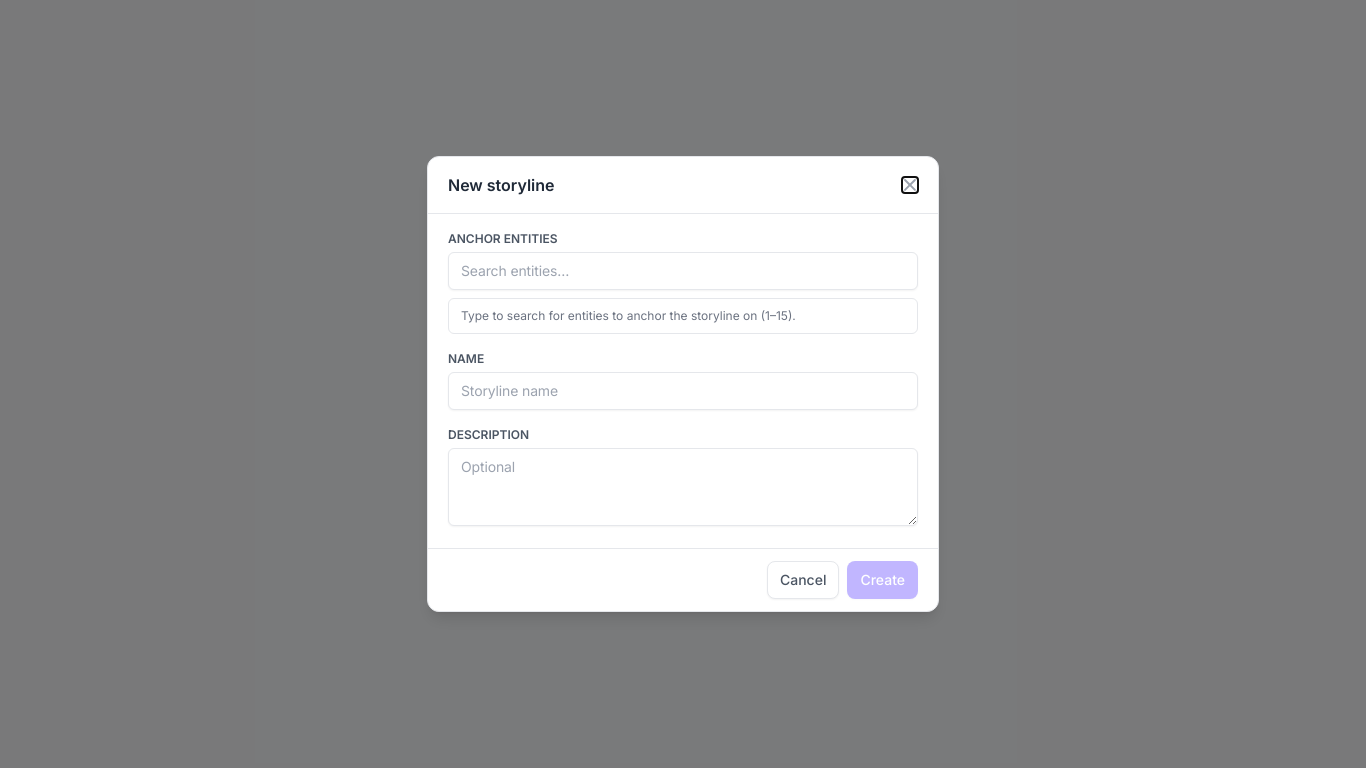
Test: StorylineCreateModal › clicking remove on a picked chip drops it from the anchor set
In the search field with test id "storyline-entity-search": (683, 271) [448,252,918,290], type "r"
Wait 260 ms
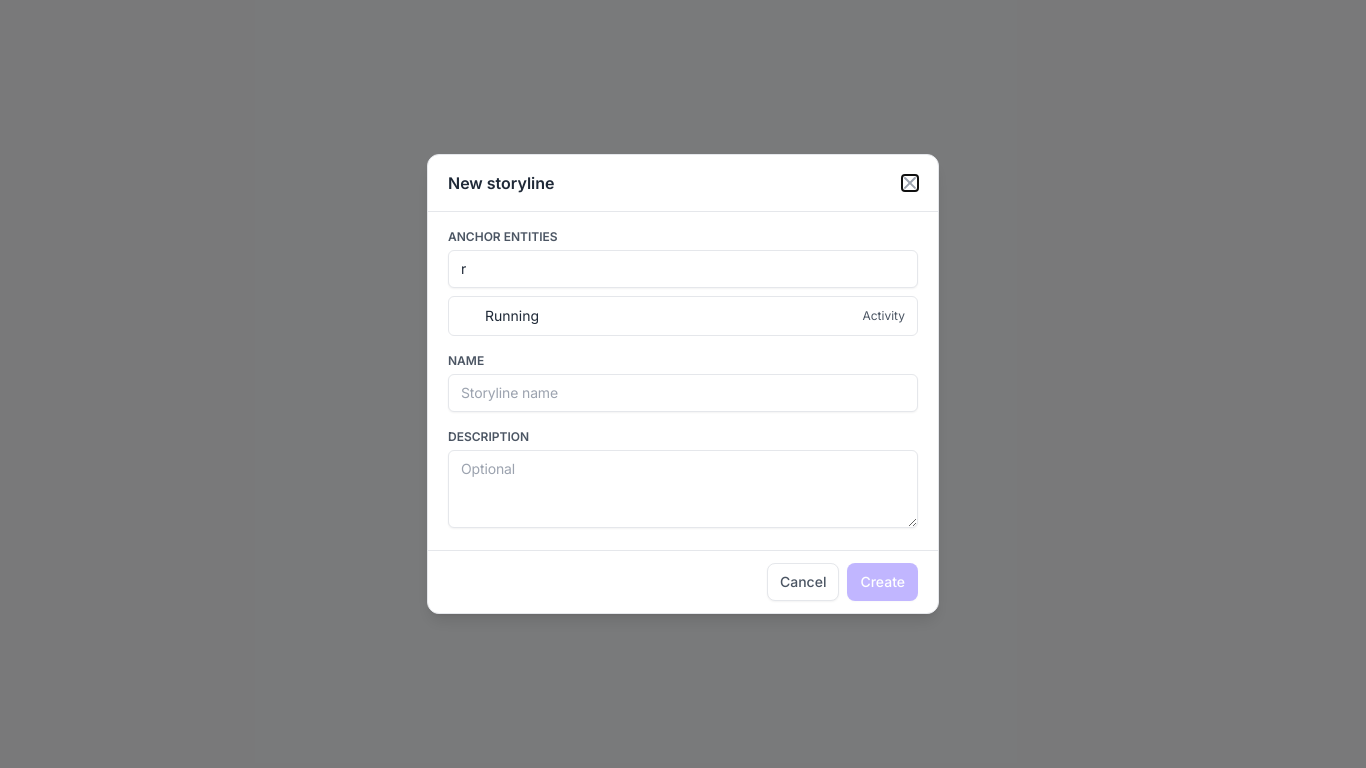
Click the list item with test id "storyline-entity-result": click(512, 316) [485,307,905,324]
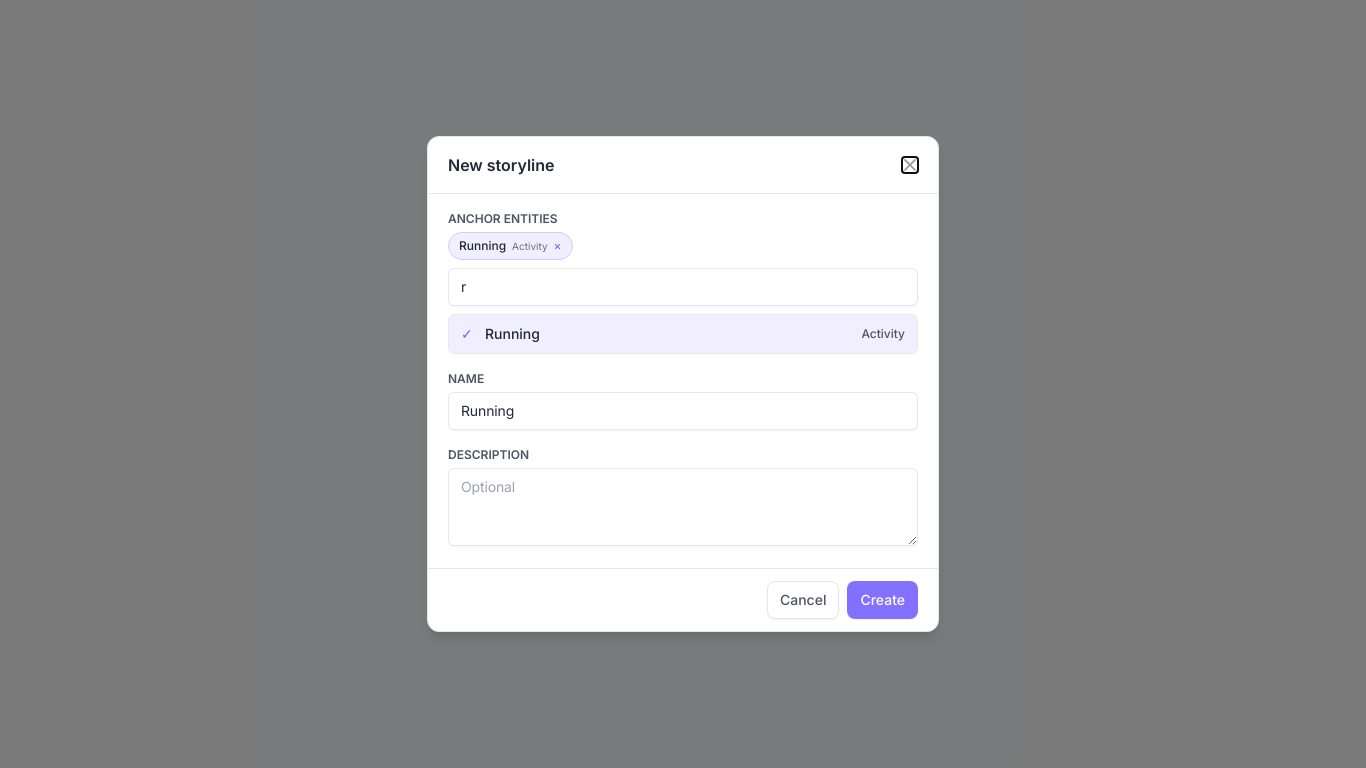
Expected: the number of elements with test id "storyline-picked-chip" is 1, [448,232,572,260]
Click the button with test id "storyline-remove-anchor": click(558, 246) [554,240,562,252]
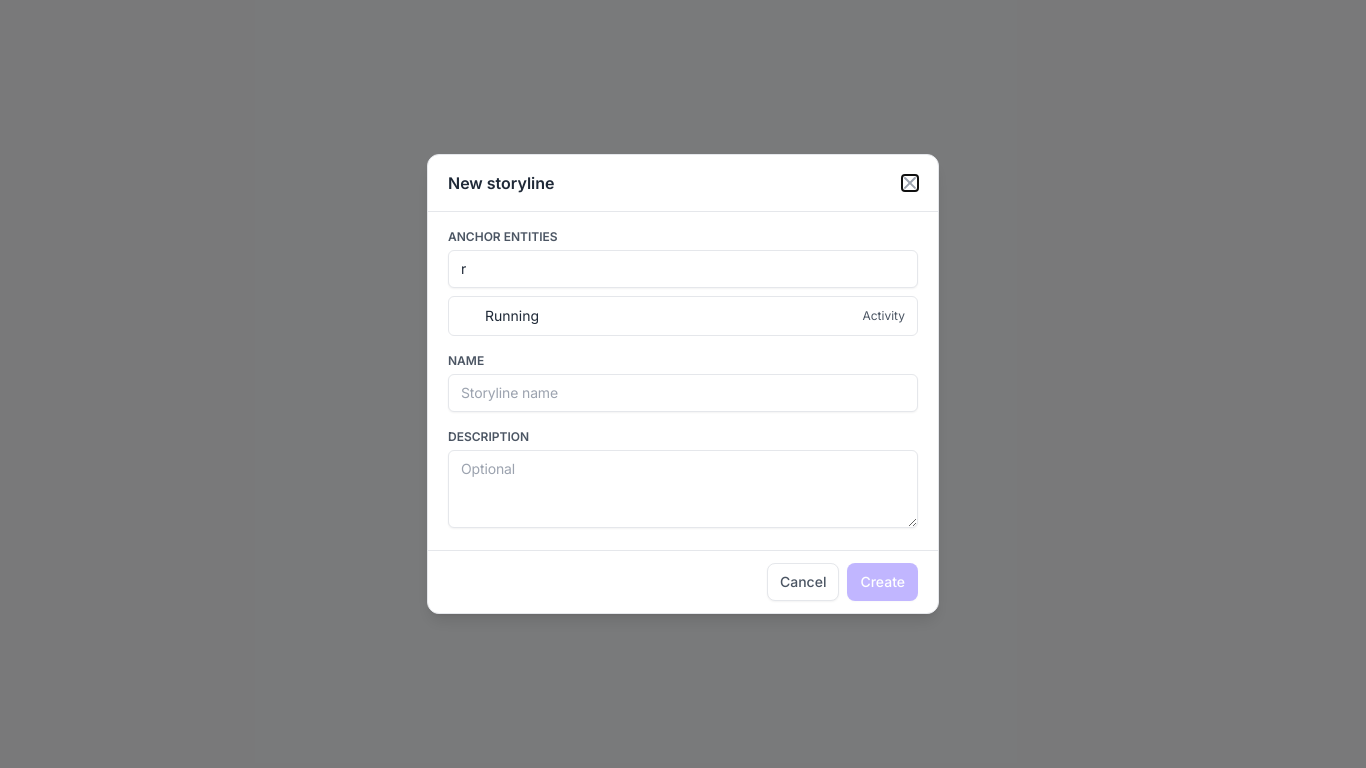
Expected: no elements with test id "storyline-picked-chip" are shown
